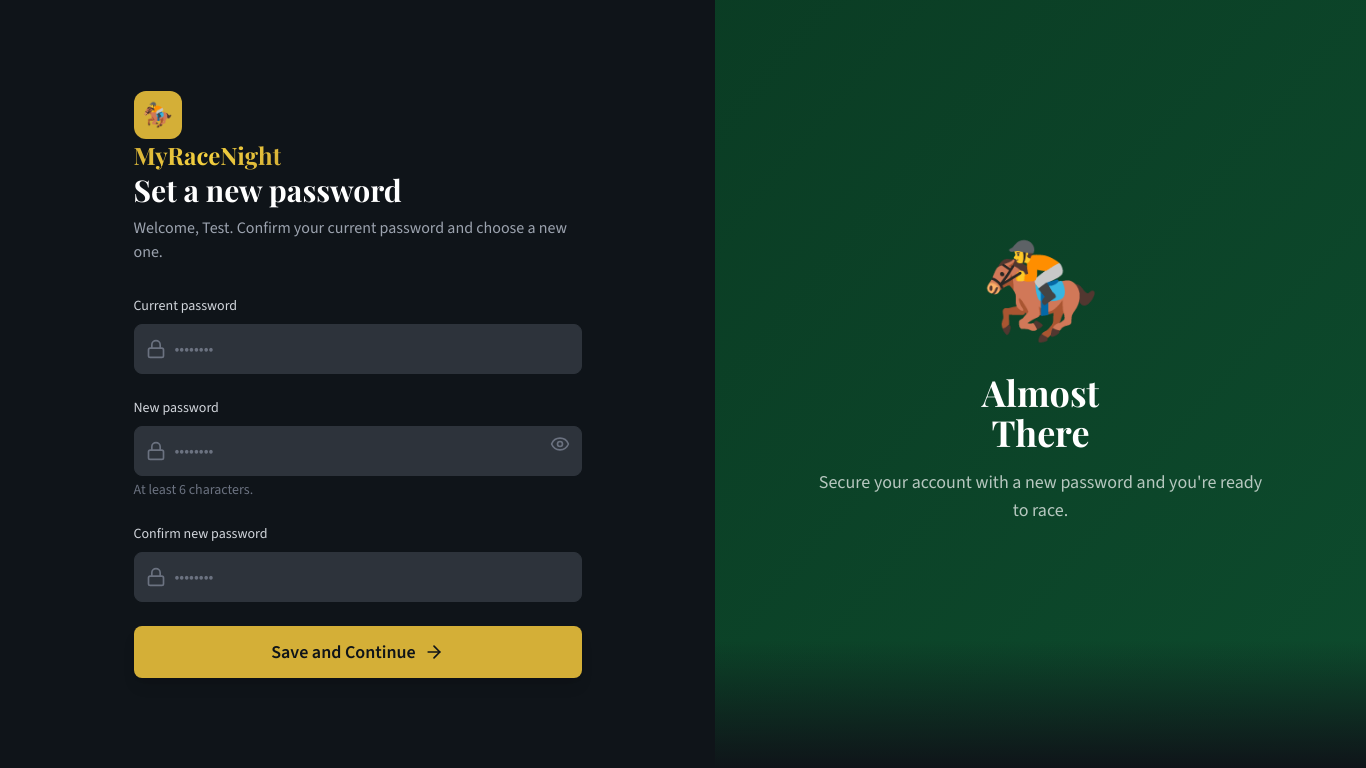
request shape › missing current credential on a voluntary change is blocked before submit
Type "new-password" into the 2nd password field with placeholder "••••••••".
click(358, 450); type("new-password")  # box [134, 426, 582, 476]
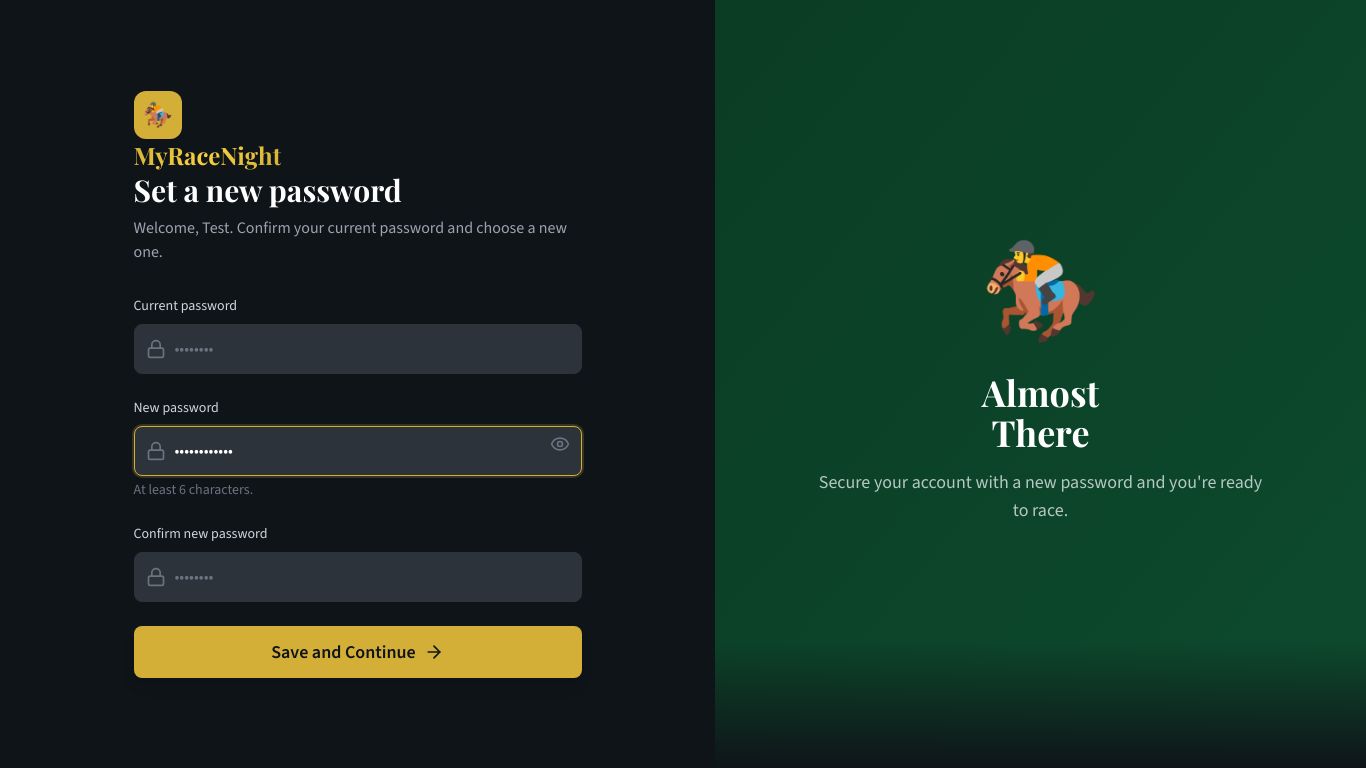
Type "new-password" into the password field with placeholder "••••••••" below "Confirm new password".
click(358, 576); type("new-password")  # box [134, 552, 582, 602]
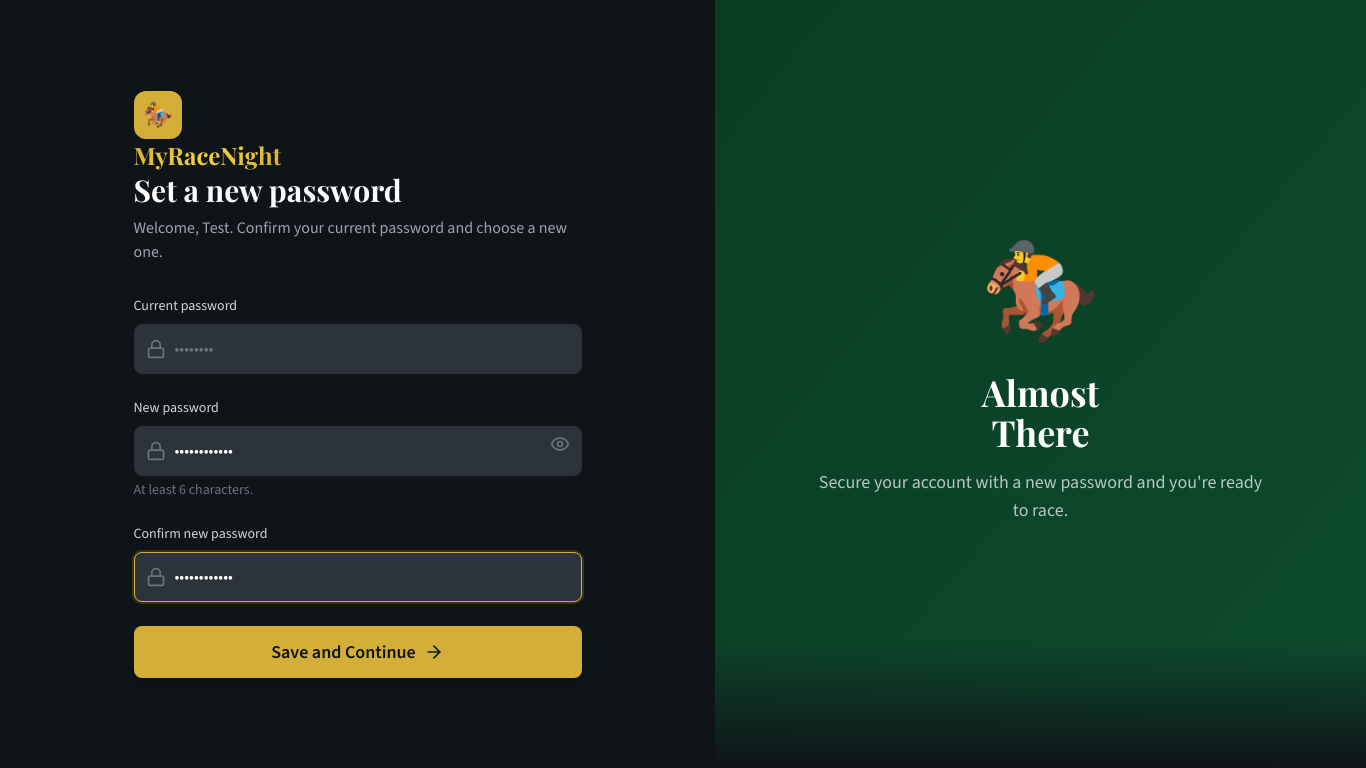
Submit the form, box [134, 296, 582, 678]
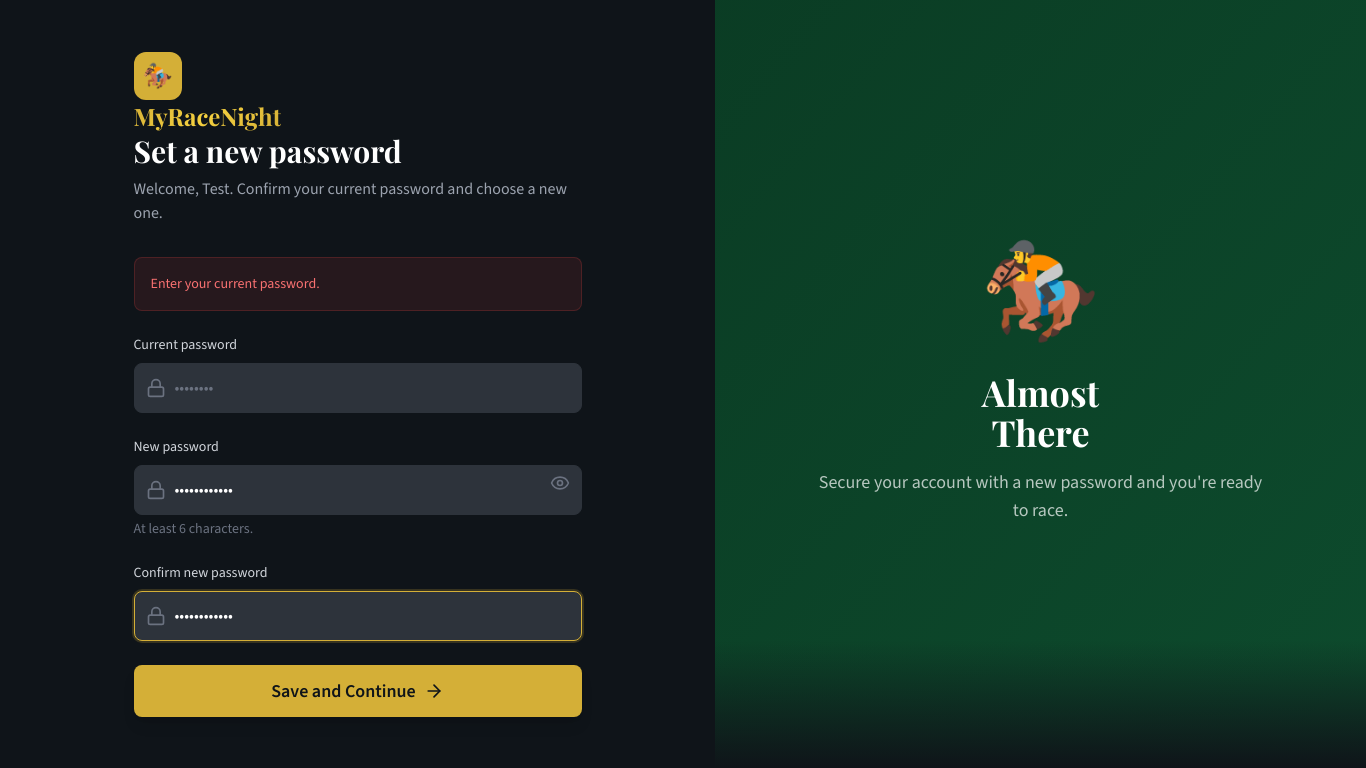
Check: the text "Enter your current password." is shown, box [134, 256, 582, 310]
